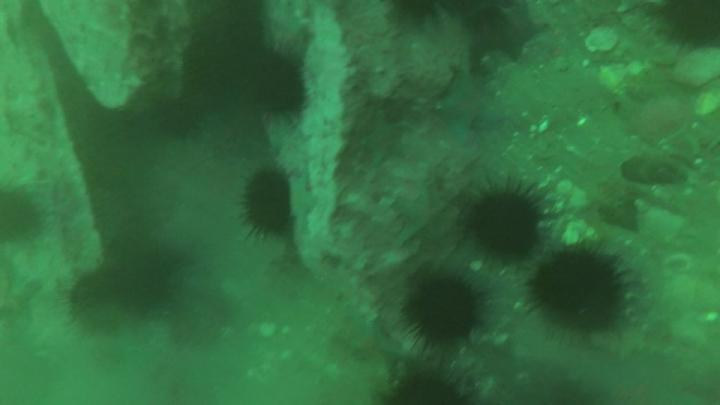echinus: (66, 248, 177, 319), (534, 250, 620, 327), (404, 278, 478, 344), (471, 189, 541, 258), (251, 53, 309, 113), (244, 168, 293, 235), (381, 375, 465, 405), (661, 3, 720, 44), (1, 190, 41, 246), (160, 98, 201, 142)
scallop: (584, 24, 621, 58)
starfish: (437, 64, 505, 143), (475, 1, 544, 57), (365, 115, 410, 163)
